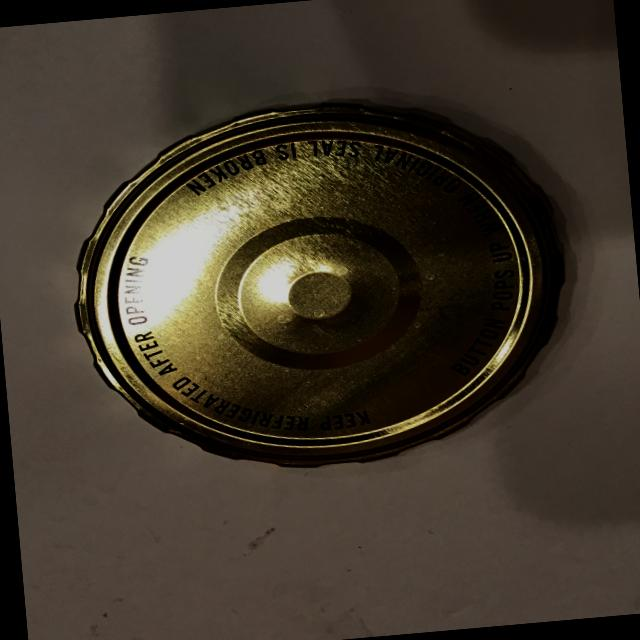Metal: (40, 64, 600, 504)
